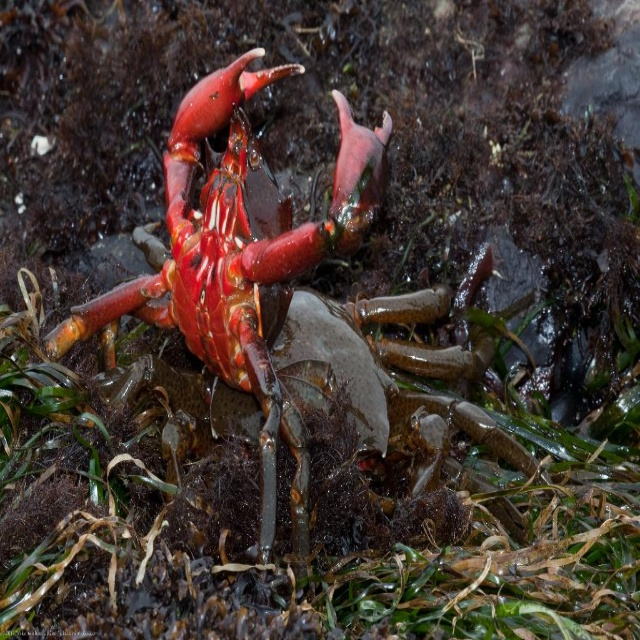Crab: (41, 47, 563, 583)
